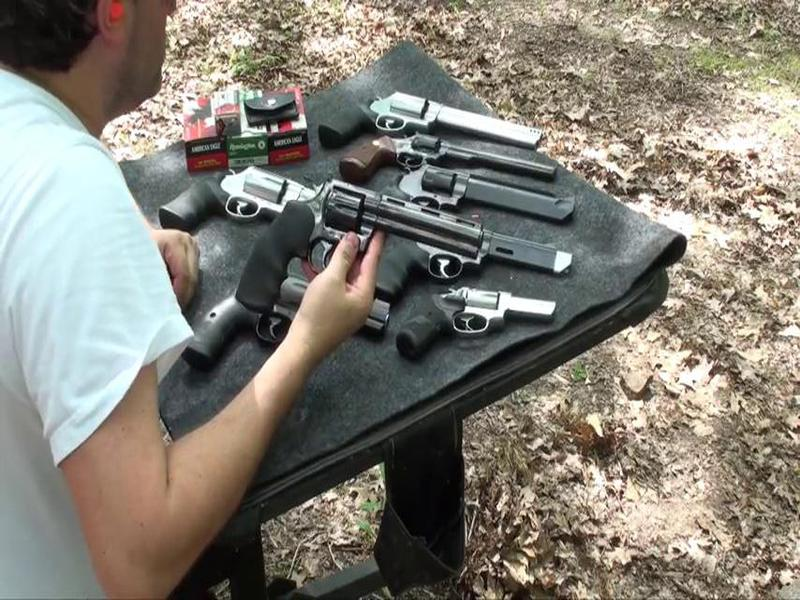Revolver: (242, 179, 486, 334)
